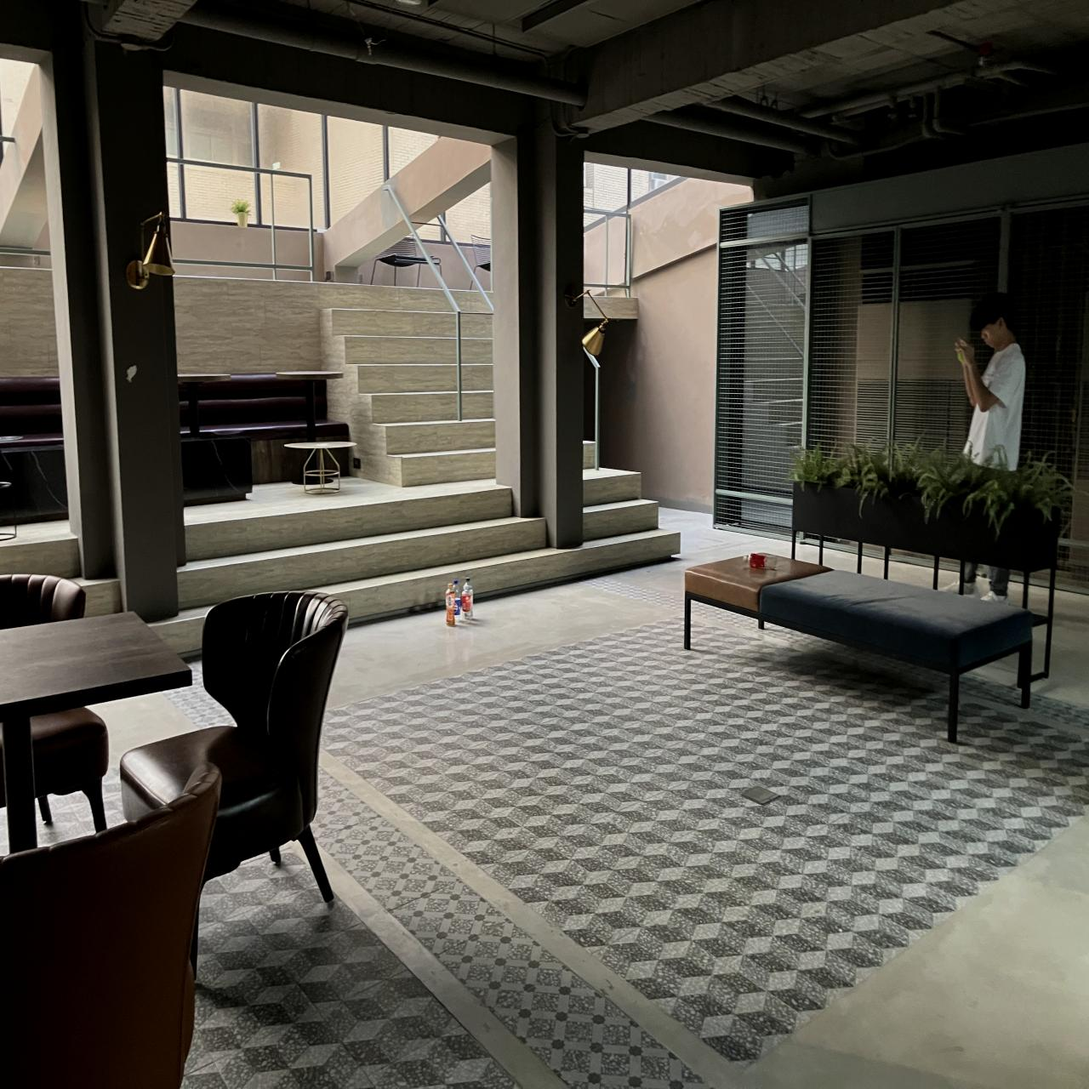plastic-bottle: (464, 577, 473, 620), (446, 584, 455, 626), (462, 586, 471, 624), (453, 580, 461, 619)
